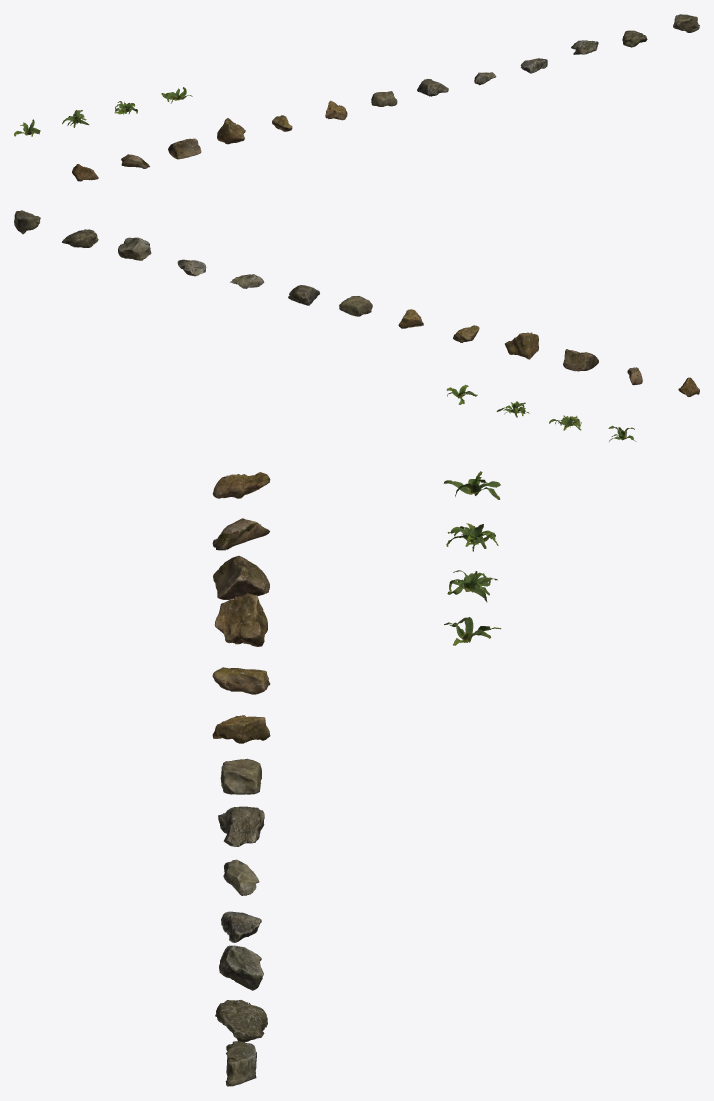
Rendered from props.glb.
3 views of the same model, one above another, from view 1: azimuth 30°, elevation 25°; view 2: azimuth 150°, elevation 25°; view 3: azimuth 270°, elevation 25° (orthographic). The views are drawn at different scales.
Parts seen in each view (by area): view 1: rock_2, rock_3, rock_12, rock_7, rock_6, rock_10, rock_5, rock_11, rock_0, rock_9, rock_1; view 2: rock_3, rock_10, rock_2, rock_6, rock_11, rock_7, rock_12; view 3: rock_3, rock_2, rock_11, rock_7, rock_10, rock_6, rock_12, rock_4, rock_5, rock_0, rock_1.
Part boxes in pixels (box(x1,y1,x2,y2)): rock_2: box(168, 138, 201, 159); rock_3: box(217, 118, 245, 144); rock_12: box(673, 14, 699, 32); rock_7: box(417, 78, 448, 96); rock_6: box(371, 91, 397, 106); rock_10: box(571, 40, 598, 54); rock_5: box(325, 100, 347, 120); rock_11: box(622, 30, 647, 47); rock_0: box(72, 164, 98, 181); rock_9: box(520, 58, 547, 73); rock_1: box(121, 154, 149, 168); rock_3: box(505, 332, 538, 359); rock_10: box(118, 237, 151, 260); rock_2: box(563, 349, 598, 371); rock_6: box(339, 296, 372, 316); rock_11: box(62, 229, 98, 247); rock_7: box(288, 285, 319, 305); rock_12: box(14, 210, 40, 234); rock_3: box(214, 593, 267, 646); rock_2: box(213, 555, 269, 599); rock_11: box(215, 1000, 267, 1042); rock_7: box(218, 806, 264, 846); rock_10: box(219, 945, 263, 990); rock_6: box(220, 758, 261, 794); rock_12: box(225, 1041, 256, 1086); rock_4: box(212, 667, 270, 694); rock_5: box(212, 715, 270, 743); rock_0: box(212, 472, 270, 498); rock_1: box(212, 518, 269, 550).
Size of the model in its own units: 24.95 by 0.8236 by 5.
3 materials, 3 textured.
